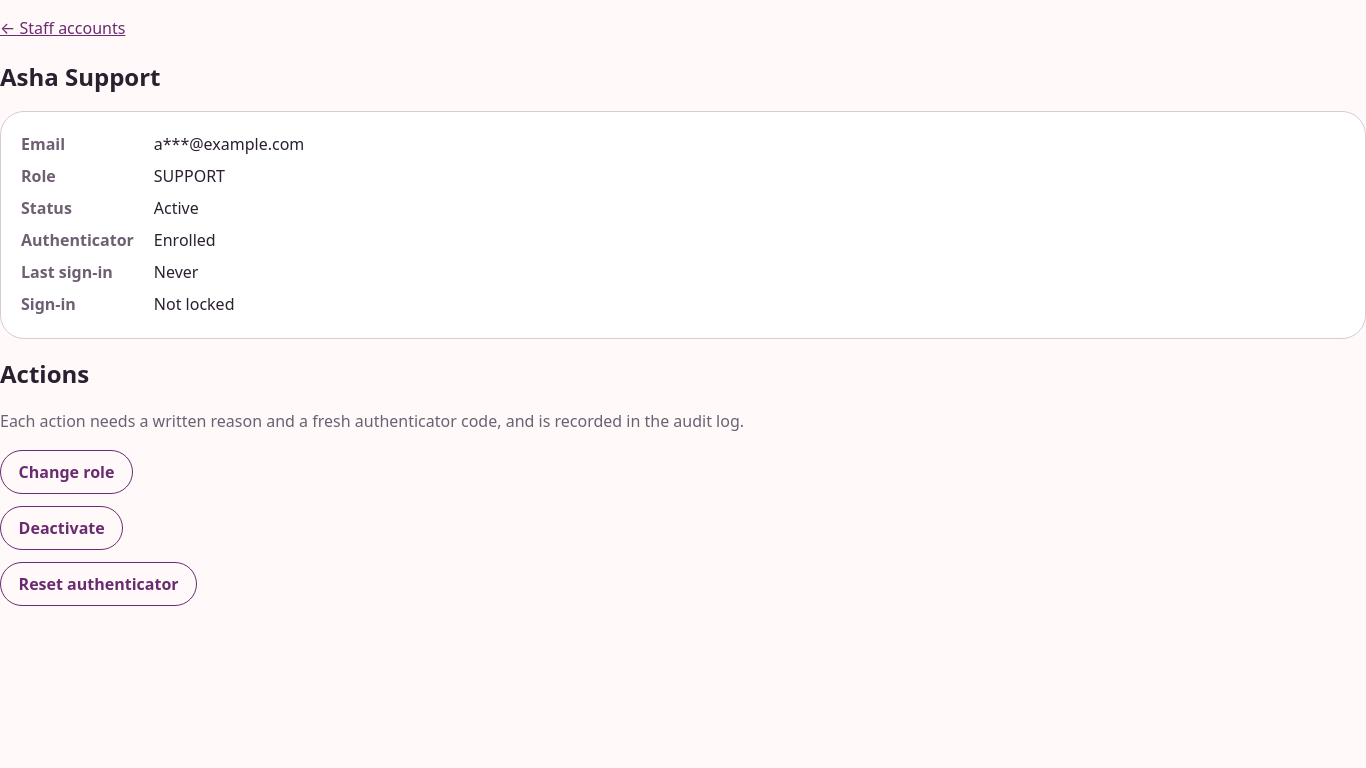
Test case: AdminUserDetail › resets the authenticator after an explicit confirmation, then asks for the step-up code first if required
The image size is (1366, 768).
Click the button "Reset authenticator" at (99, 584), box top-left (0, 562), bottom-right (197, 606)
(page scrolled)
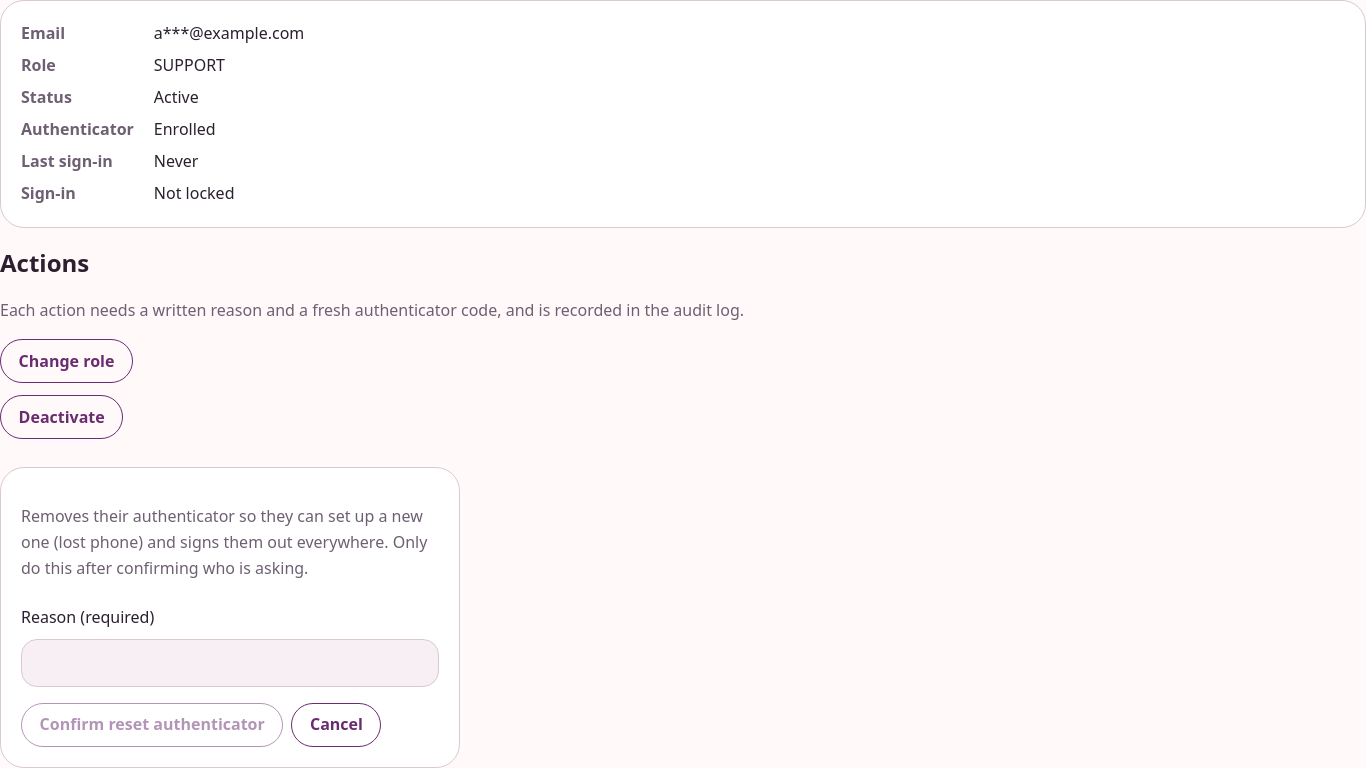
Type "Lost phone" into the field labelled "Reason (required)" at (230, 663), box top-left (21, 639), bottom-right (439, 687)
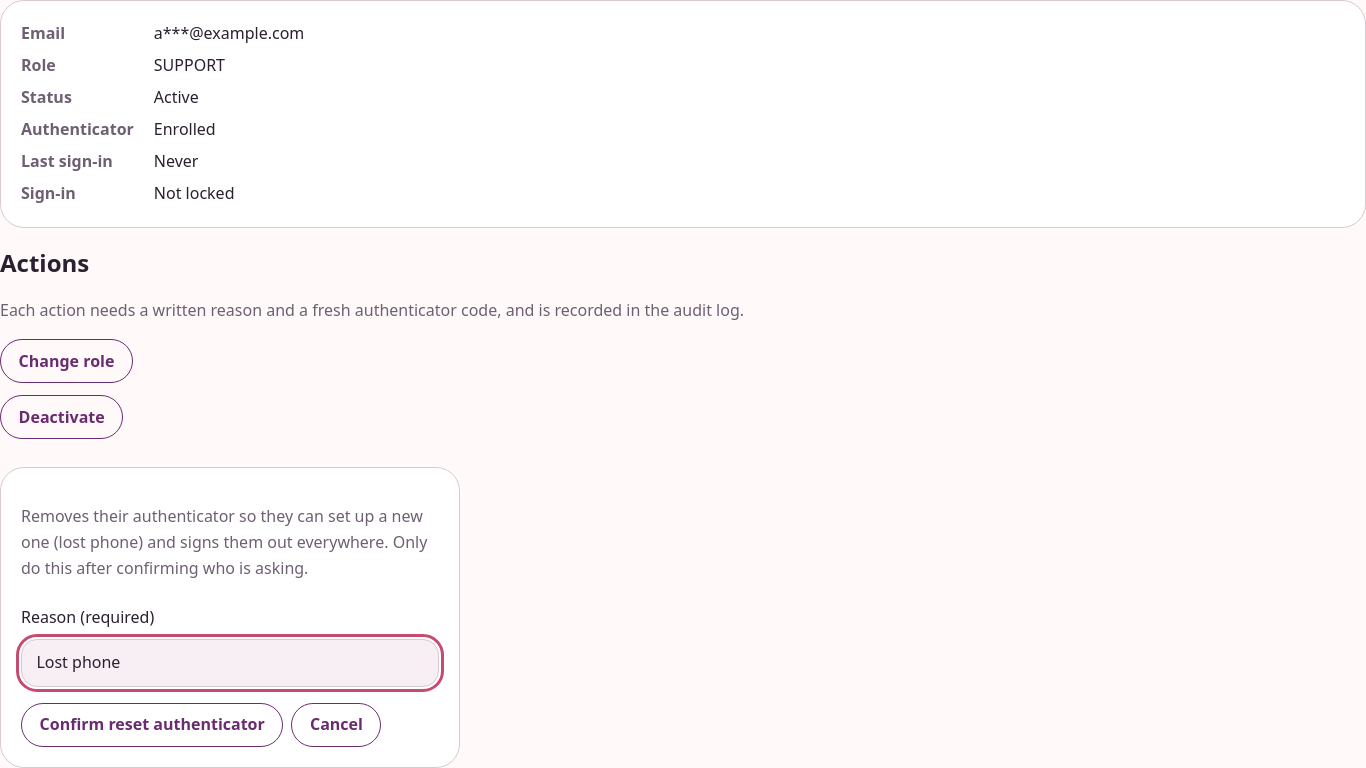
Click the button "Confirm reset authenticator" at (152, 725), box top-left (21, 703), bottom-right (283, 747)
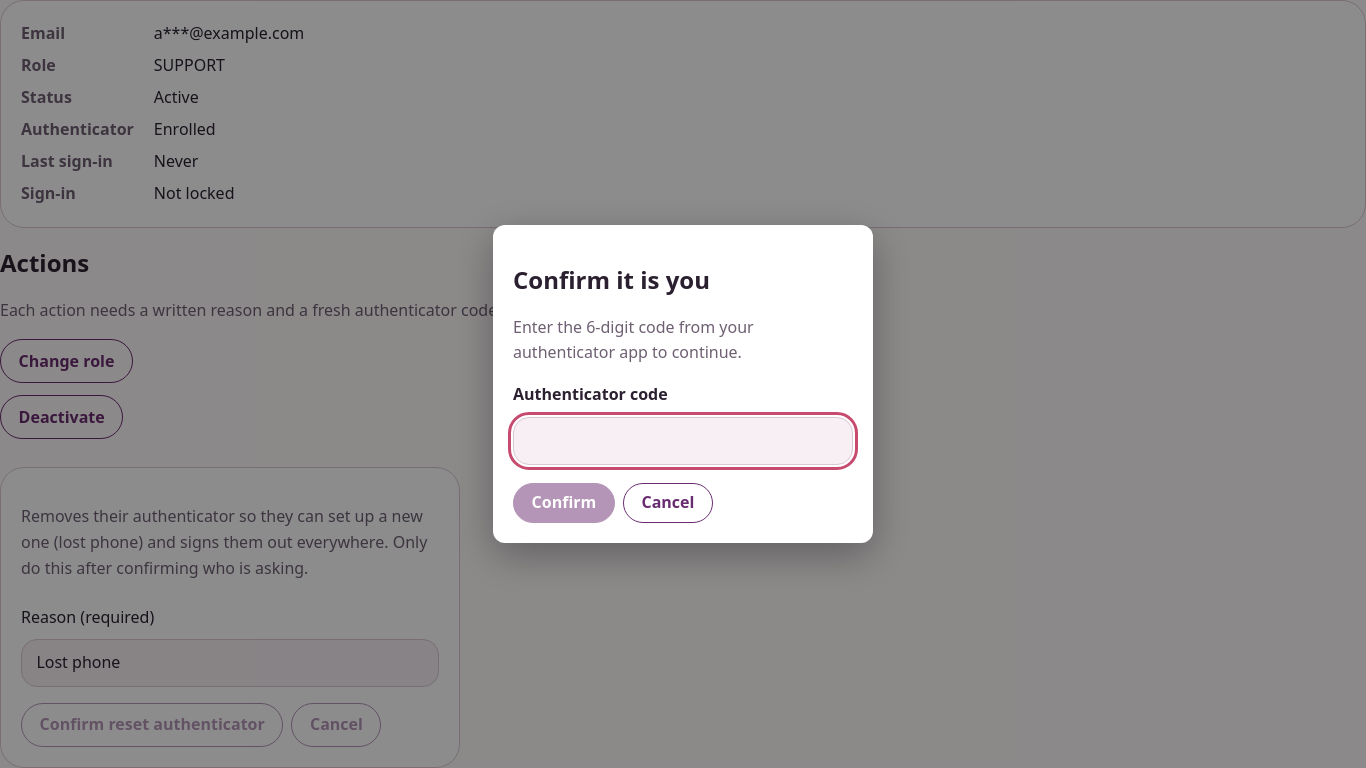
Type "123456" into the field labelled "Authenticator code" at (683, 441), box top-left (513, 417), bottom-right (853, 465)
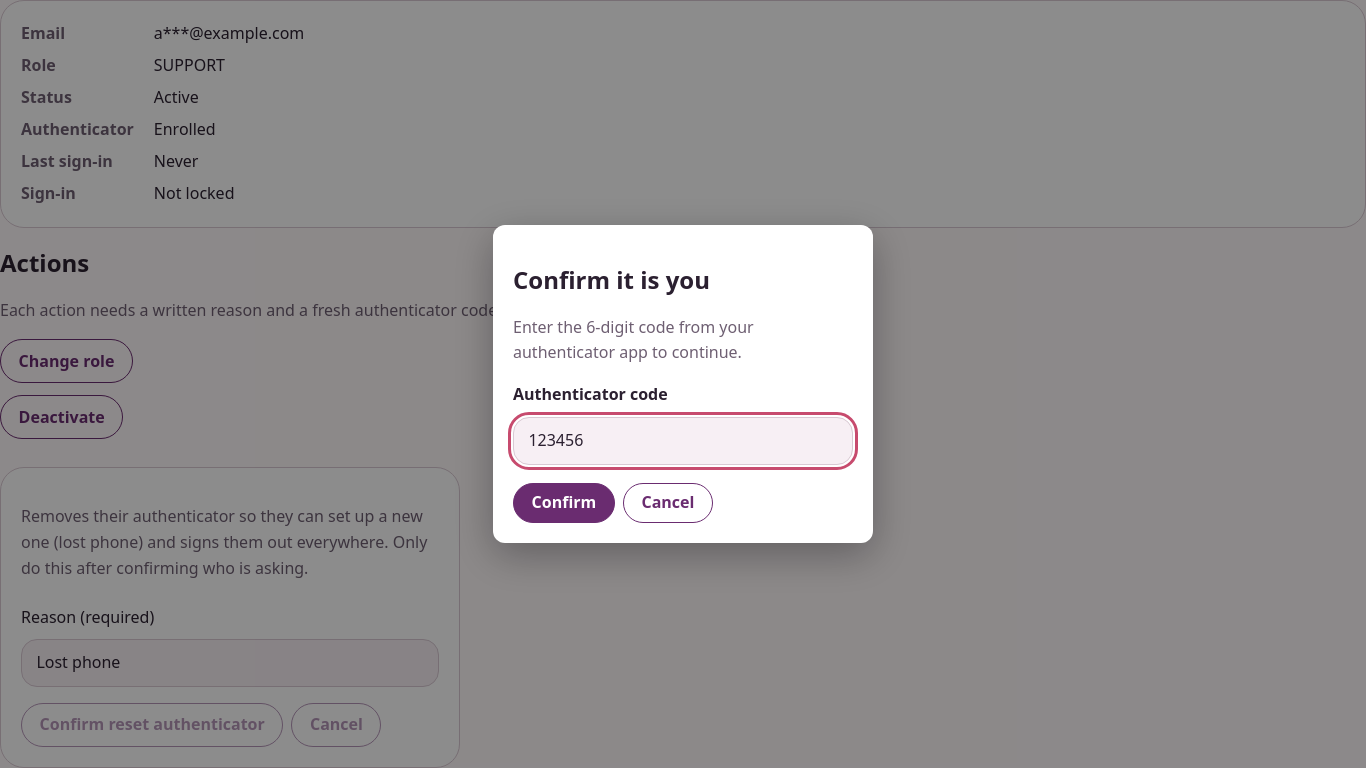
Click the submit button at (564, 503), box top-left (513, 483), bottom-right (615, 523)
(page scrolled)
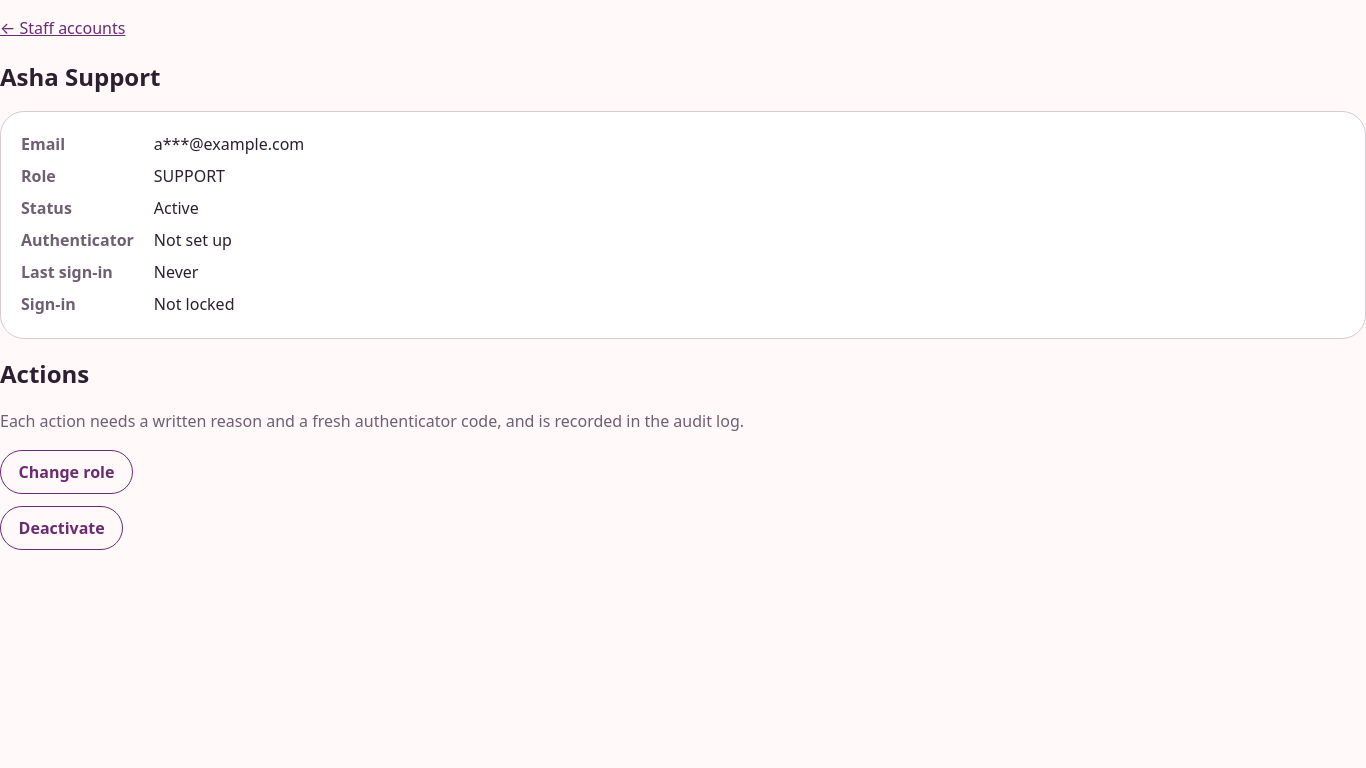
Expected: the button "reset authenticator" is gone
